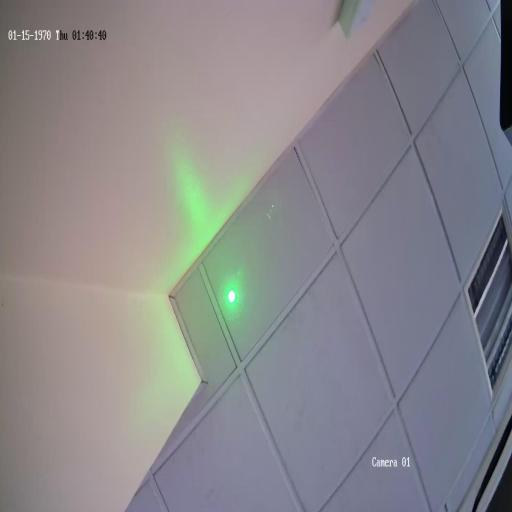laser: (225, 285, 238, 309)
